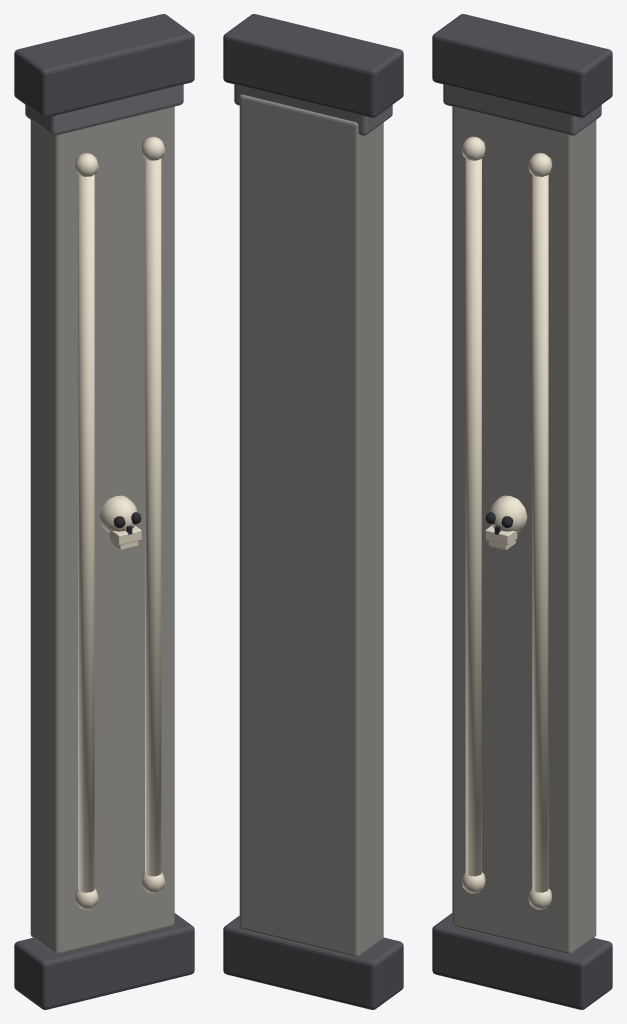
The model's file is pilaster_bone.glb.
The picture shows the model from 3 angles, left to right: view 1: azimuth 30°, elevation 25°; view 2: azimuth 150°, elevation 25°; view 3: azimuth 330°, elevation 25°; orthographic projection.
Parts seen in each view (by area): view 1: GD_pilaster_bone__m1, GD_pilaster_bone__m2, GD_pilaster_bone__m0, GD_pilaster_bone__m5; view 2: GD_pilaster_bone__m1, GD_pilaster_bone__m0, GD_pilaster_bone__m5; view 3: GD_pilaster_bone__m1, GD_pilaster_bone__m2, GD_pilaster_bone__m0, GD_pilaster_bone__m5.
Boxes of the visible parts, x1,y1,x2,y2 form: GD_pilaster_bone__m1: [30, 106, 174, 954]; GD_pilaster_bone__m2: [74, 136, 165, 909]; GD_pilaster_bone__m0: [14, 14, 194, 1009]; GD_pilaster_bone__m5: [25, 84, 183, 135]; GD_pilaster_bone__m1: [239, 94, 383, 957]; GD_pilaster_bone__m0: [223, 14, 403, 1009]; GD_pilaster_bone__m5: [234, 84, 392, 135]; GD_pilaster_bone__m1: [452, 106, 596, 954]; GD_pilaster_bone__m2: [461, 136, 552, 909]; GD_pilaster_bone__m0: [432, 14, 612, 1009]; GD_pilaster_bone__m5: [443, 84, 601, 135].
Size of the model in its own units: 0.46 by 2.7 by 0.216.
